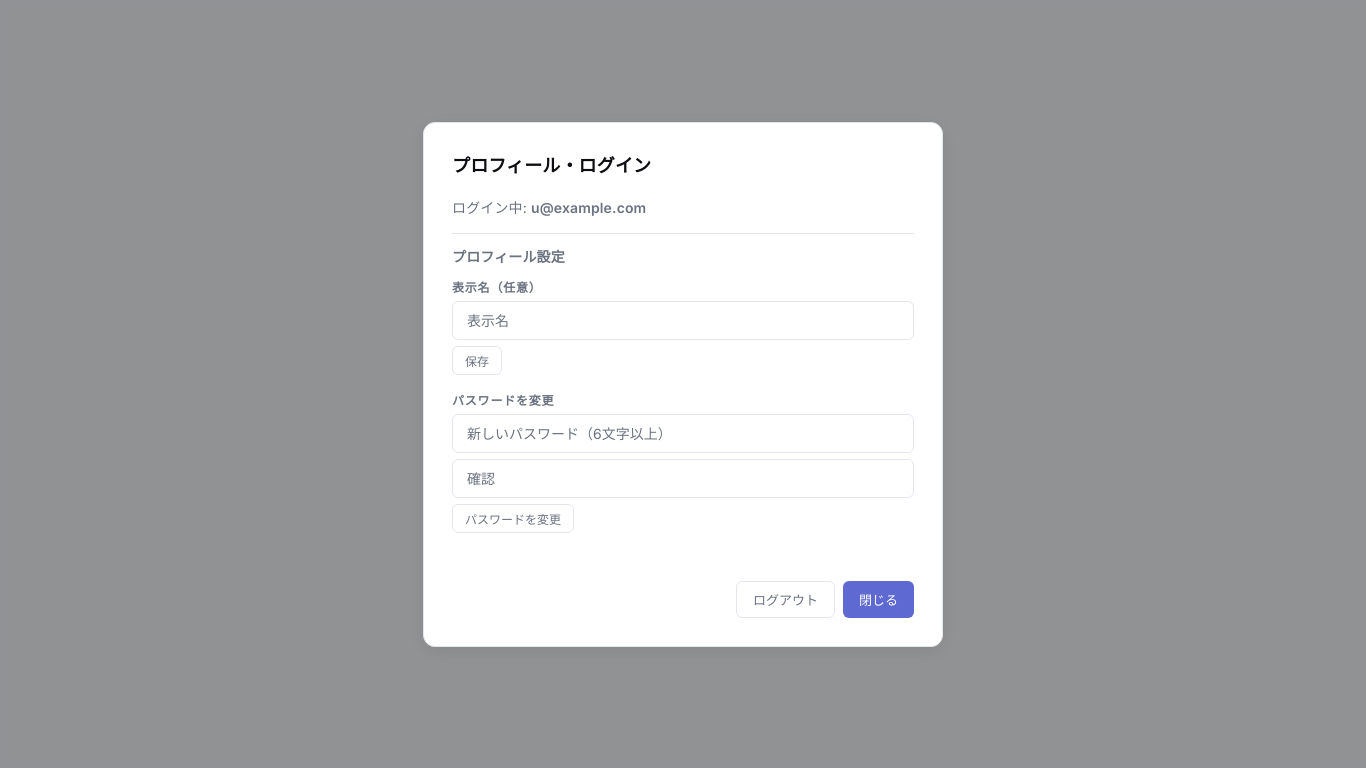
Test case: ProfileModal › shows ログアウトしますか？ and はい/いいえ when ログアウト is clicked
This screenshot has width=1366, height=768.
Click the button "ログアウト" at (786, 599), box [736,580,835,618]
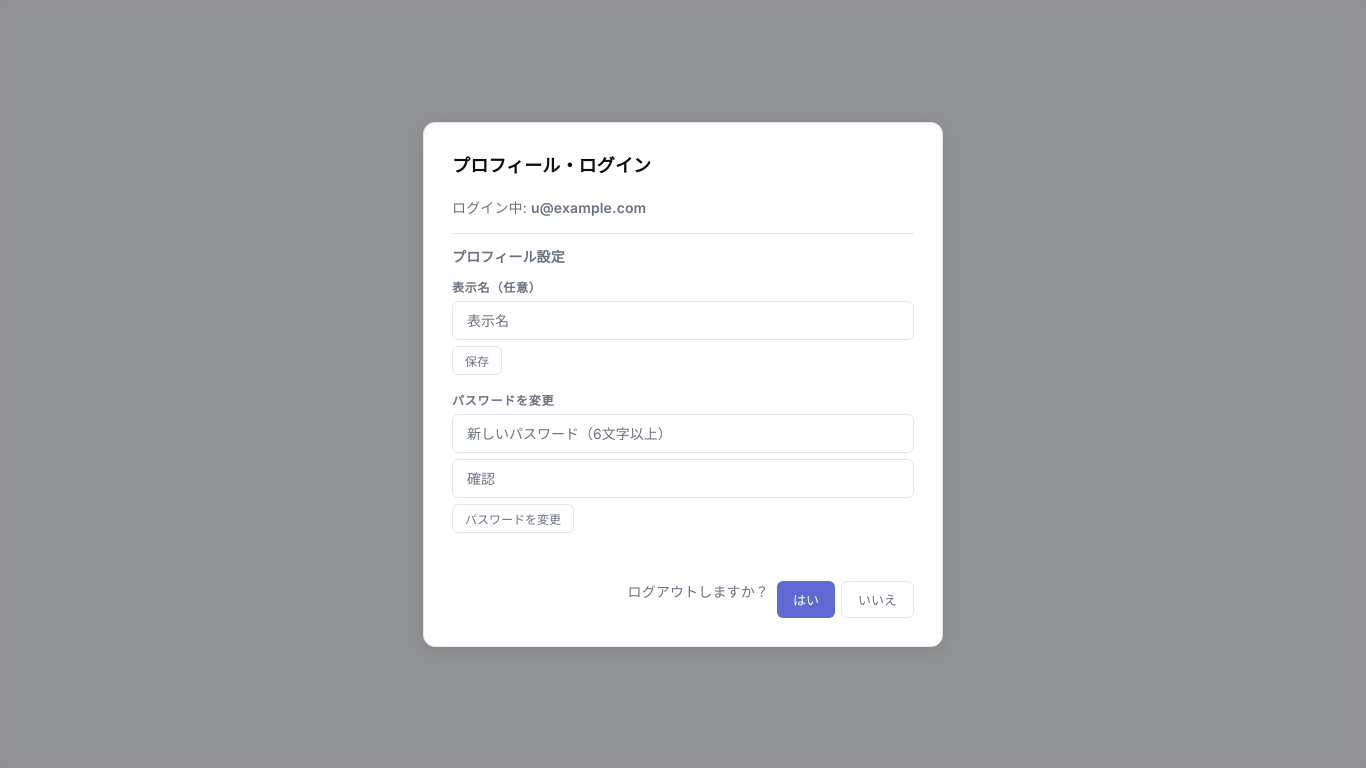
Result: the text "ログアウトしますか？" is shown at [628,580,769,602]
Result: the button "はい" is shown at [777,580,835,618]
Result: the button "いいえ" is shown at [841,580,914,618]
